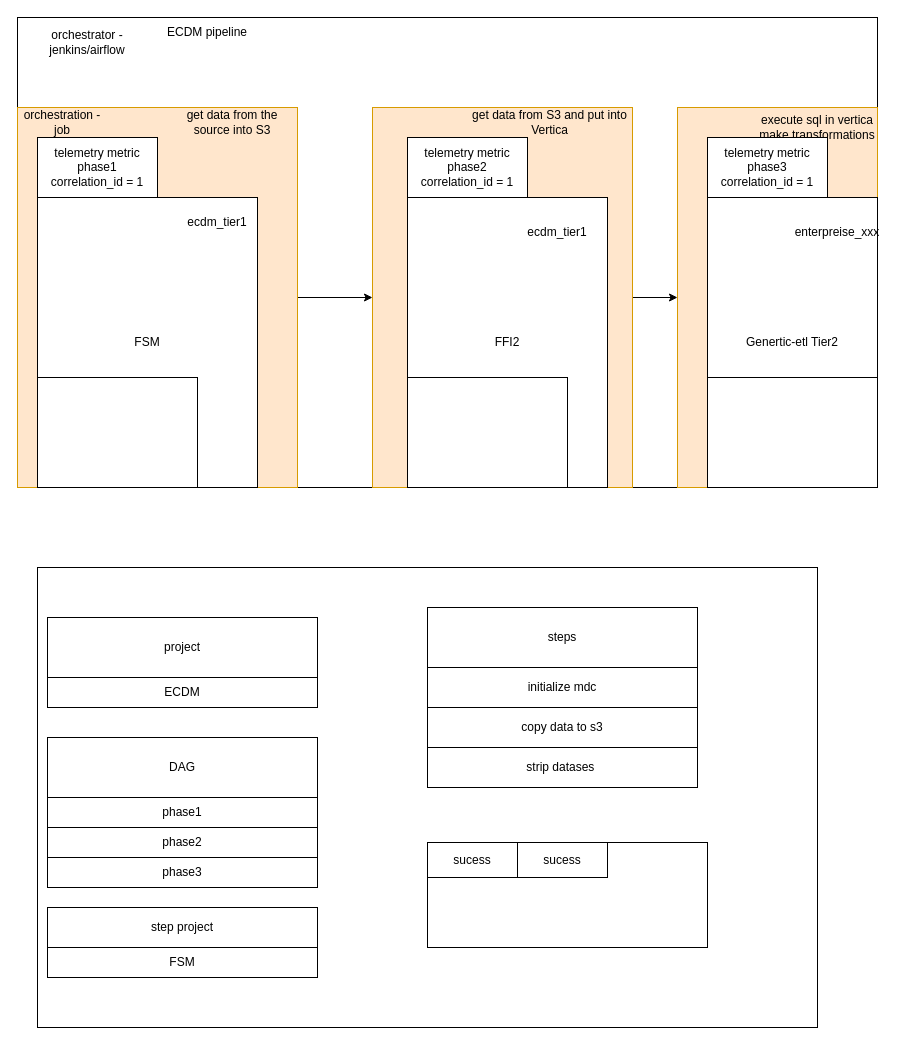
Image size: 897x1045. Some labels were removed from this diagram. Each missing label, with the centre of its shape:
"telemetry metric abc correlation_id = 1 airflow dag = 'phase1'" goes at [117,432].
"telemetry metric def correlation_id = 1" goes at [487,432].
"telemetry metric xyze correlation_id = 1" goes at [792,432].
